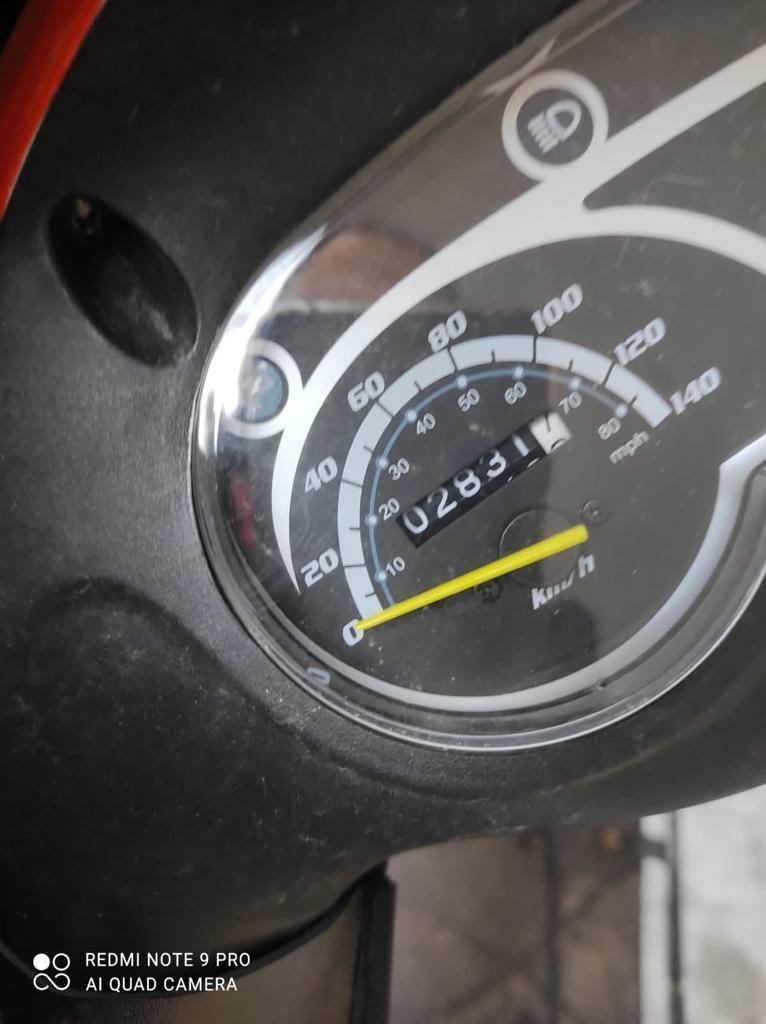0: (400, 502, 429, 535), (422, 411, 436, 430), (396, 455, 409, 474)
1: (507, 428, 530, 459)
2: (425, 483, 458, 519)
3: (477, 445, 507, 480), (392, 464, 401, 482)
4: (413, 417, 426, 437)
7: (529, 407, 552, 433)
8: (451, 465, 481, 499)
odometer: (392, 405, 575, 551)
